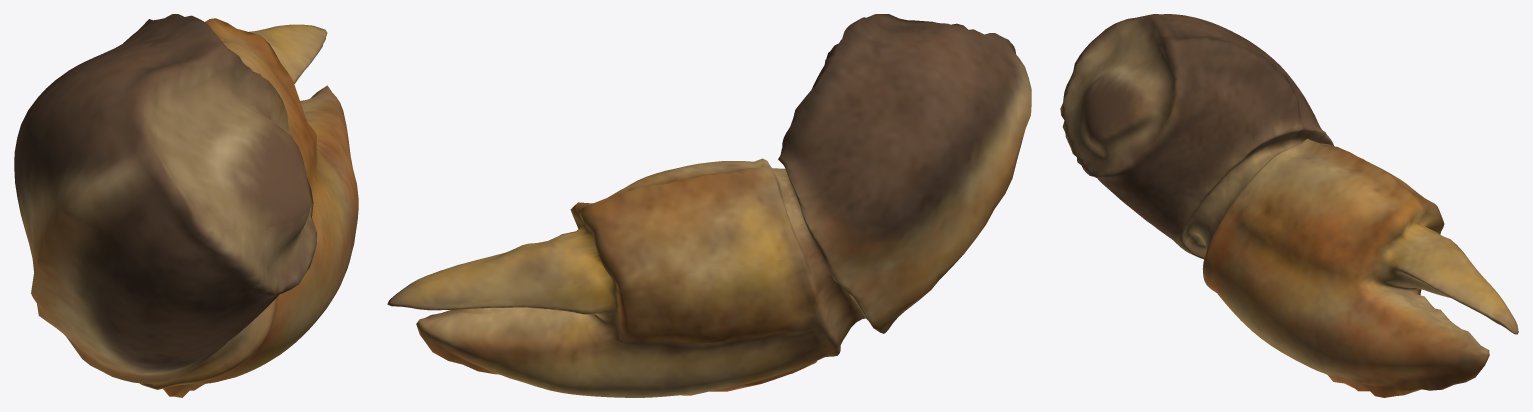
The model's file is pinzader.obj.
3 views of the same model, side by side, from view 1: azimuth 30°, elevation 25°; view 2: azimuth 150°, elevation 25°; view 3: azimuth 270°, elevation 25° (orthographic). The views are drawn at different scales.
Parts seen in each view (by area): view 1: Crab_Obj_crab_01; view 2: Crab_Obj_crab_01; view 3: Crab_Obj_crab_01.
Boxes of the visible parts, x1,y1,x2,y2 form: Crab_Obj_crab_01: [14, 14, 358, 397]; Crab_Obj_crab_01: [387, 14, 1031, 397]; Crab_Obj_crab_01: [1060, 14, 1518, 397].
Size of the model in its own units: 4.11 by 3.23 by 4.59.
1 material, 1 textured.
